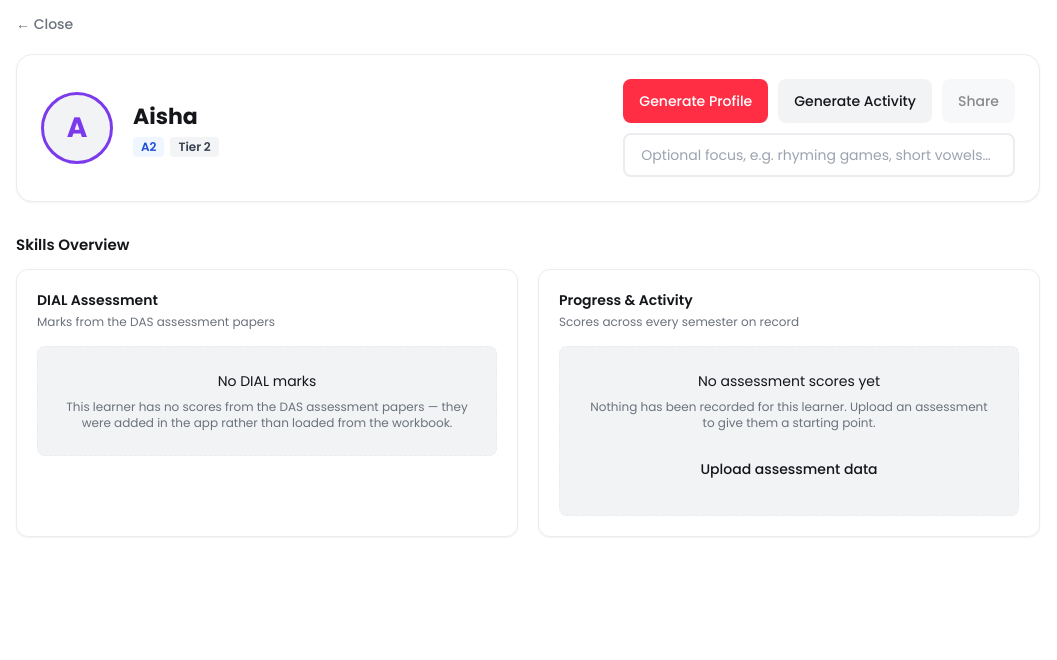
Test: tells the therapist to upload scores when the learner has none
Click the button "Generate Activity": (855, 101) [778,79,932,123]
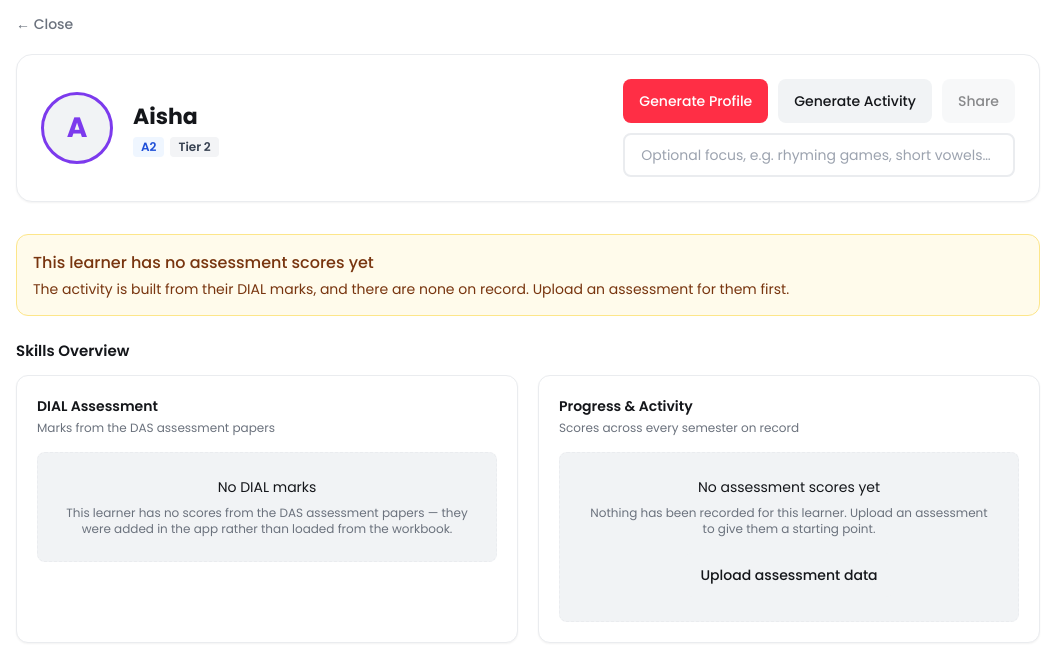
Expected: the text "This learner has no assessment scores yet" is shown, [33,251,374,274]
Expected: the text "there are none on record" is shown, [33,279,789,299]
